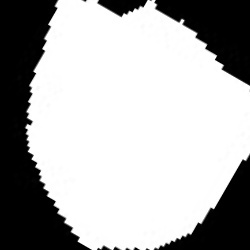spot: (24, 1, 248, 250)
